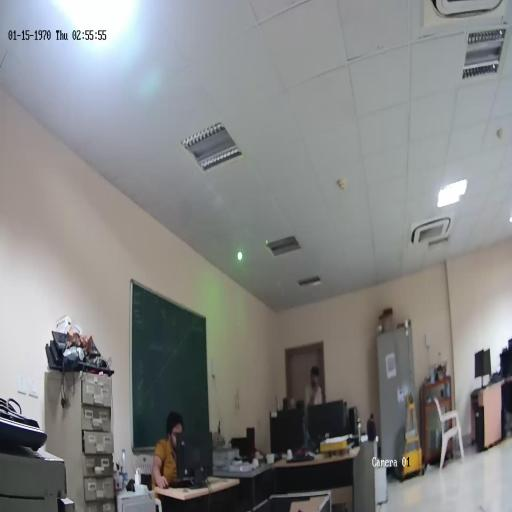laser: (236, 248, 244, 265)
